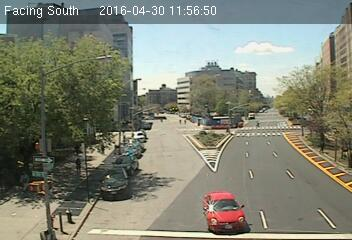neg: (234, 37, 266, 80), (247, 127, 276, 165), (280, 83, 307, 118), (74, 58, 99, 92), (306, 137, 330, 170), (184, 77, 207, 107), (132, 57, 153, 85), (149, 161, 169, 188), (141, 98, 161, 124), (61, 199, 80, 225), (34, 156, 53, 181), (212, 192, 231, 217), (281, 188, 299, 212), (194, 42, 211, 64), (230, 107, 246, 129), (152, 195, 168, 217), (108, 177, 124, 198), (204, 148, 220, 169)
pos: (70, 156, 85, 176), (99, 142, 108, 154)
